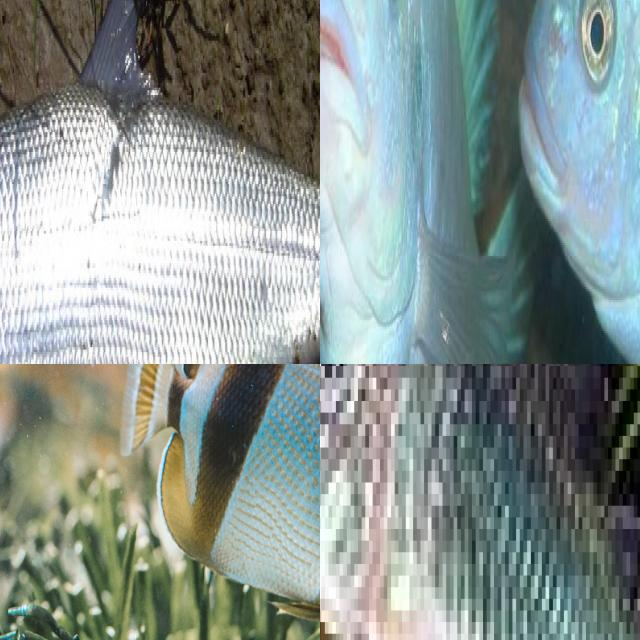fish: (0, 0, 320, 364), (320, 364, 640, 640), (320, 0, 524, 364), (85, 364, 320, 489)
